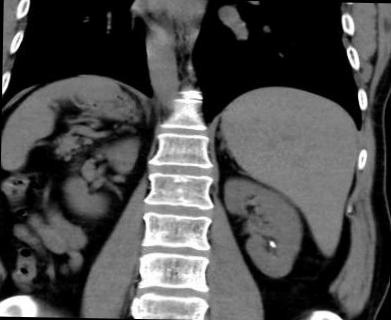Tas_Var: (266, 241, 276, 249)
